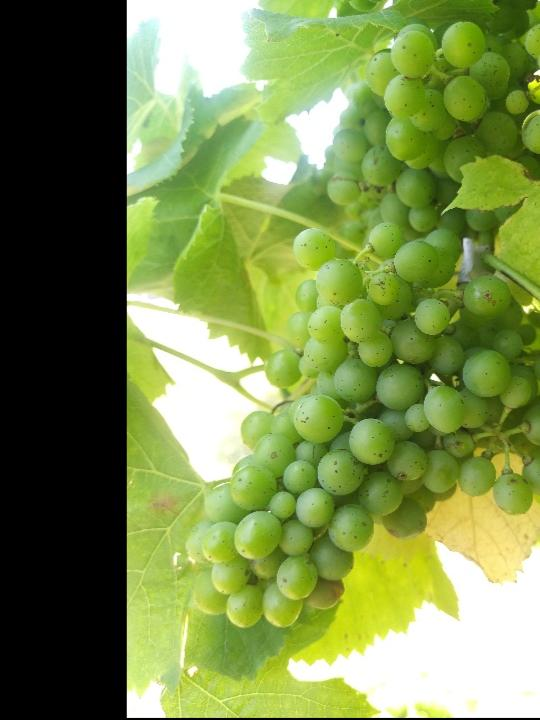grape: (182, 224, 540, 631)
